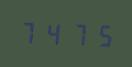five: (87, 20, 109, 48)
four: (41, 19, 63, 46)
seven: (18, 18, 40, 46), (64, 19, 86, 47)
